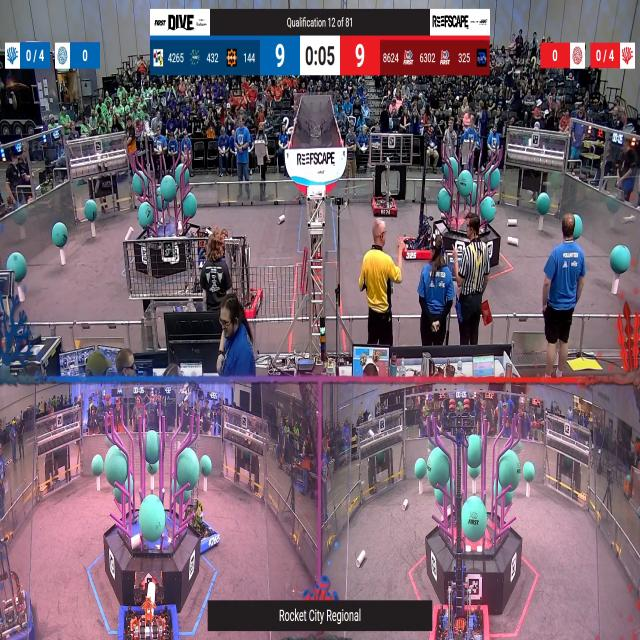scoreboard: (151, 36, 489, 74)
